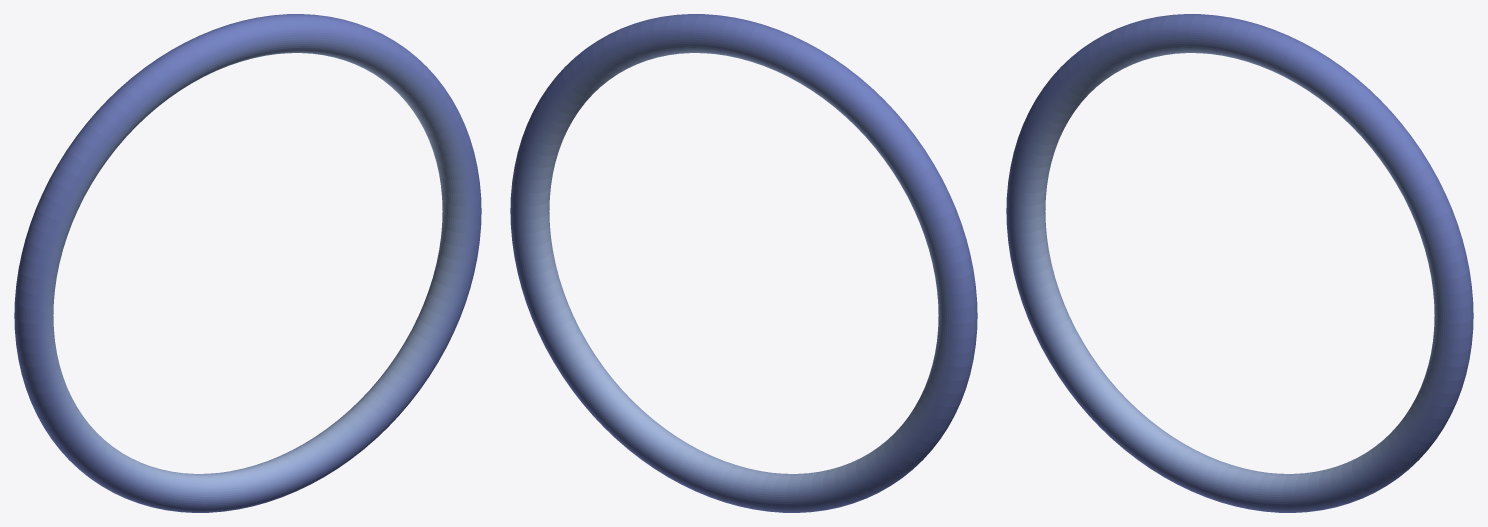
The picture shows the model from 3 angles, left to right: view 1: azimuth 30°, elevation 25°; view 2: azimuth 150°, elevation 25°; view 3: azimuth 330°, elevation 25°; orthographic projection.
Visible parts, largest first — view 1: world; view 2: world; view 3: world.
Boxes of the visible parts, <box> form: world: <box>14,14,481,512</box>; world: <box>510,14,977,512</box>; world: <box>1006,14,1473,512</box>.
Size of the model in its own units: 30.93 by 30.93 by 2.26.
